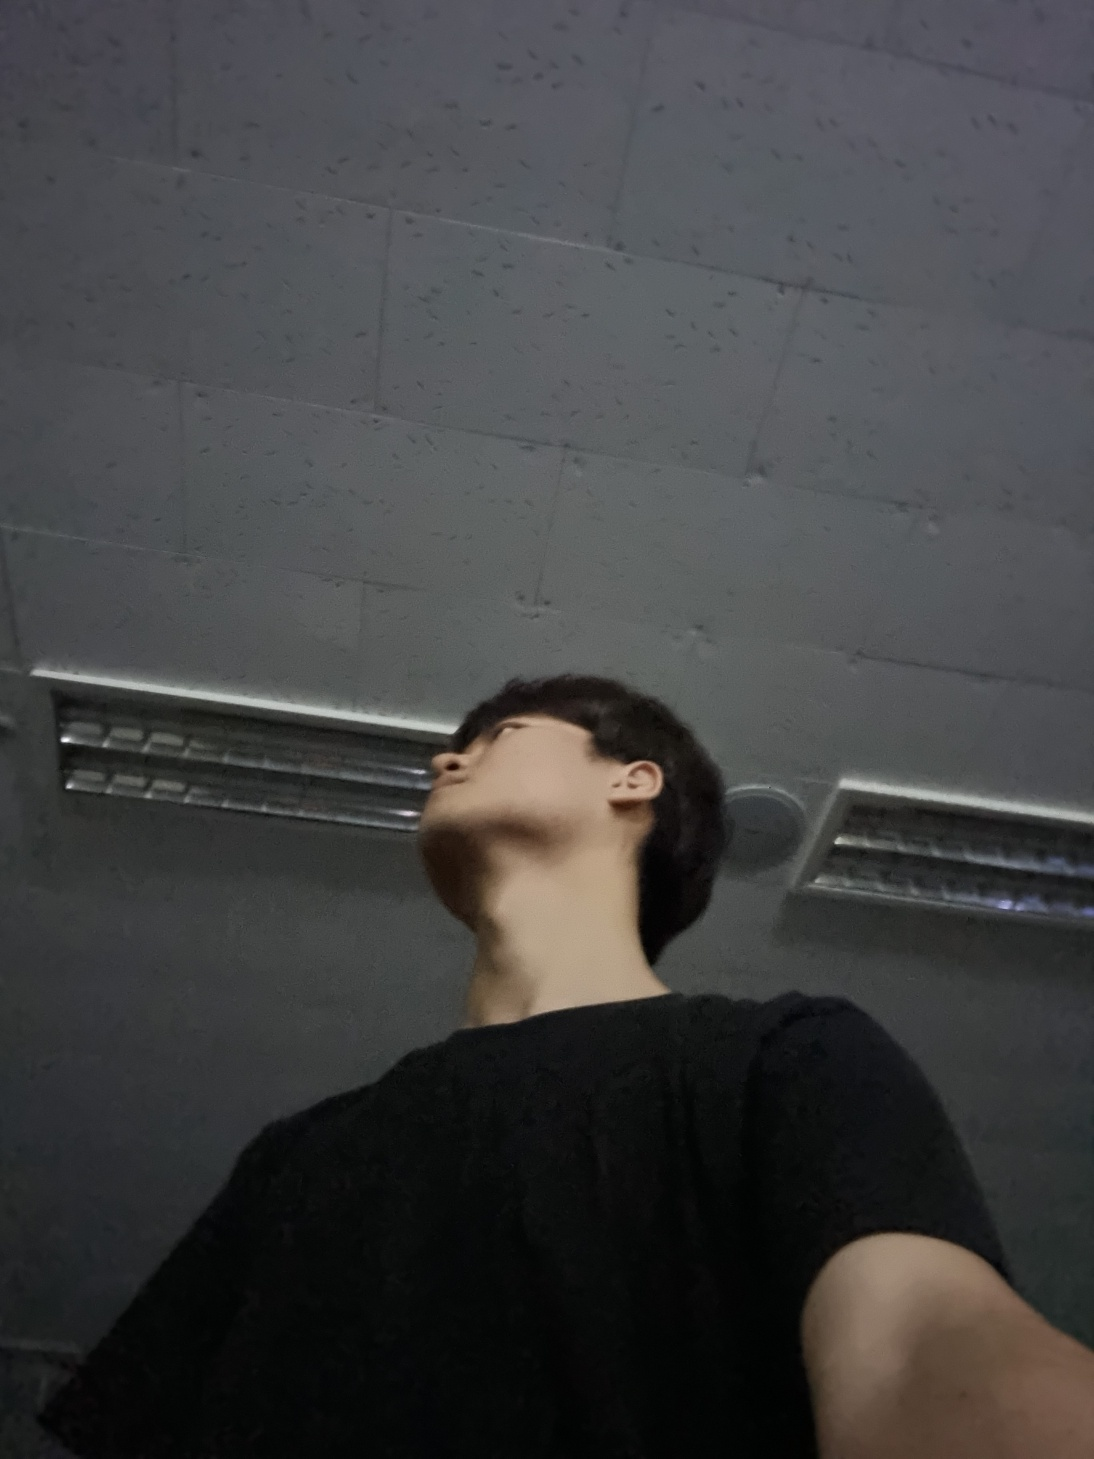Non-Helmet: (362, 631, 766, 1034)
